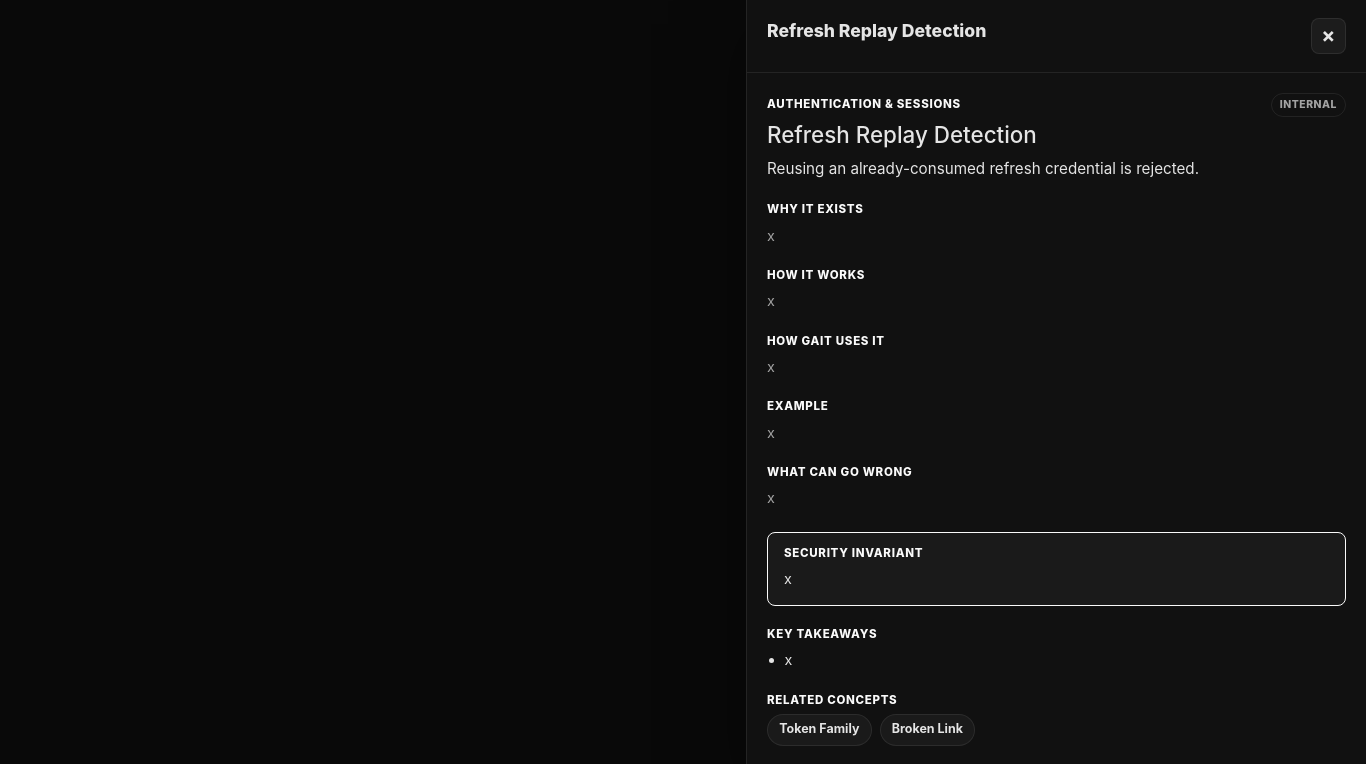
Test: SecurityLearningDrawer › clicking a related concept navigates the same drawer to that topic
Expected: the heading "Refresh Replay Detection" is shown, [767,121,1037,148]
Click the button "Token Family" at (819, 730), box [767,714,872,746]
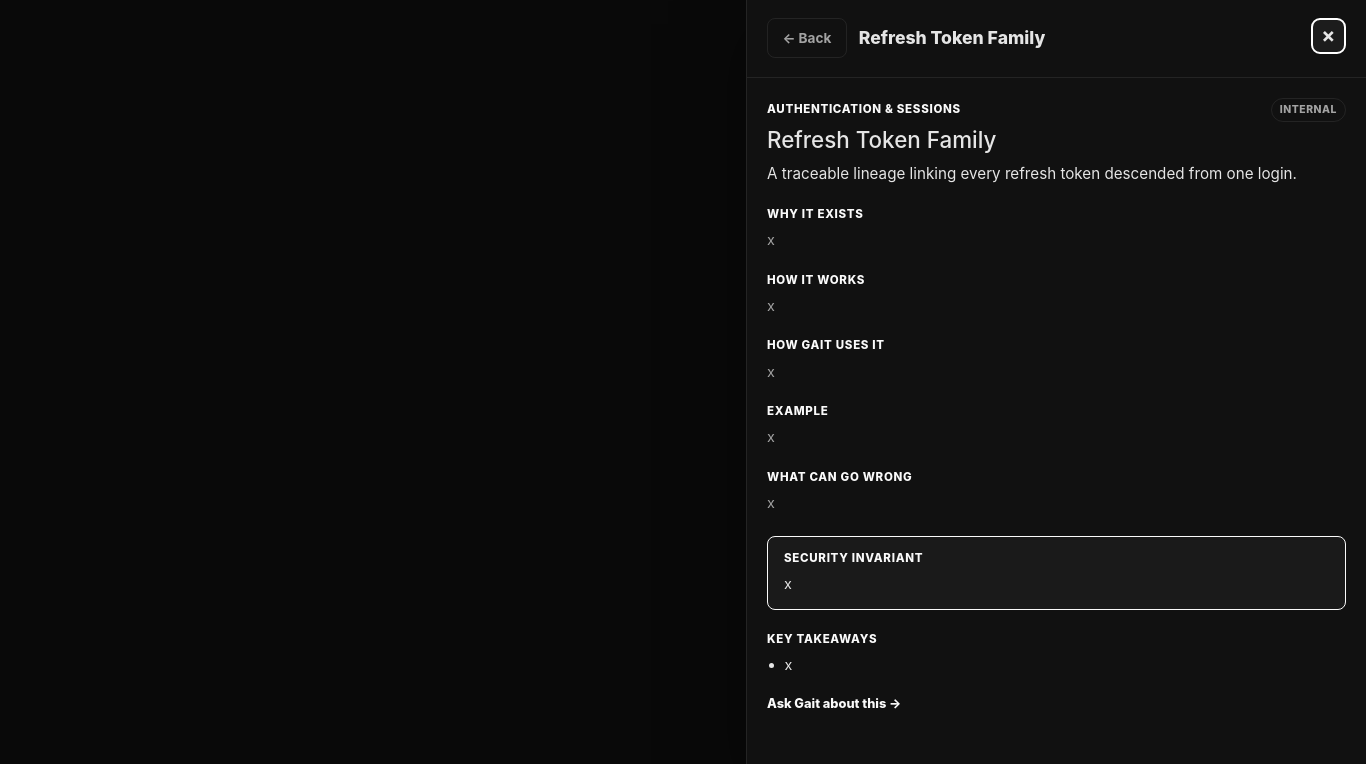
Now the heading "Refresh Token Family" is shown, box [767,126,996,152]
